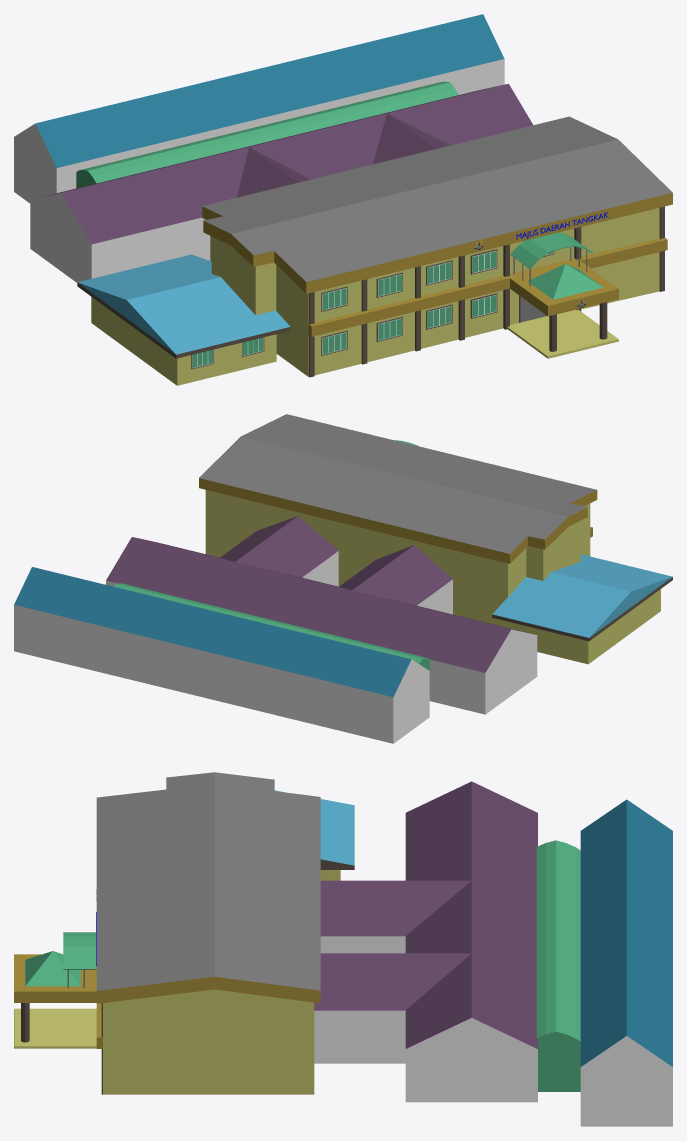
The model's file is 40_MajlisPenbandaranTangkak.glb.
The picture shows the model from 3 angles, top to bottom: view 1: azimuth 30°, elevation 25°; view 2: azimuth 150°, elevation 25°; view 3: azimuth 270°, elevation 25°; orthographic projection. The views are drawn at different scales.
Parts seen in each view (by area): view 1: 40_MajlisPenbandaranTangkak; view 2: 40_MajlisPenbandaranTangkak; view 3: 40_MajlisPenbandaranTangkak.
Boxes of the visible parts, x1,y1,x2,y2 form: 40_MajlisPenbandaranTangkak: (14,14,672,385); 40_MajlisPenbandaranTangkak: (14,414,672,743); 40_MajlisPenbandaranTangkak: (14,772,672,1126).
Bounding box in the file's own units: 23.51 × 4.72 × 23.33.
Materials: 12 (1 with a texture image).
